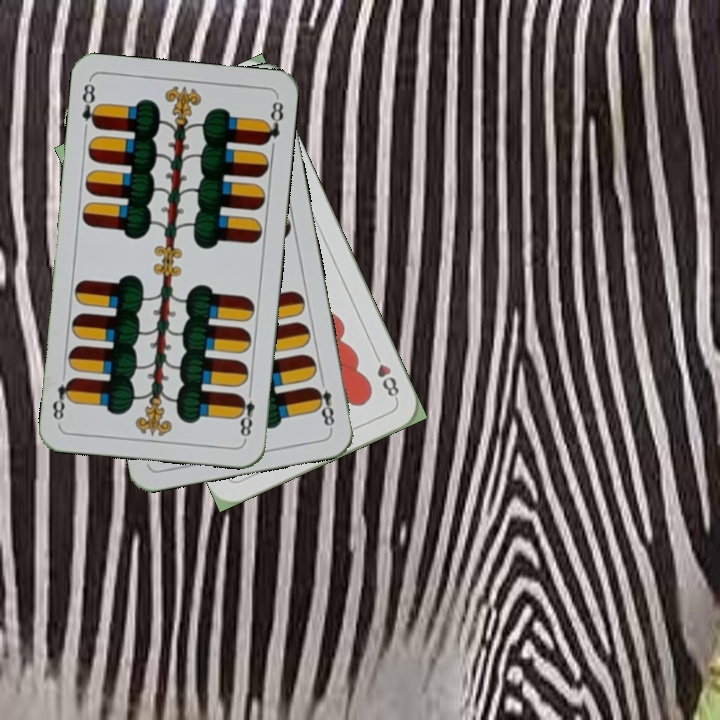E8: (309, 373, 337, 432), (233, 384, 258, 443), (78, 79, 102, 132)
H8: (369, 347, 402, 403)
